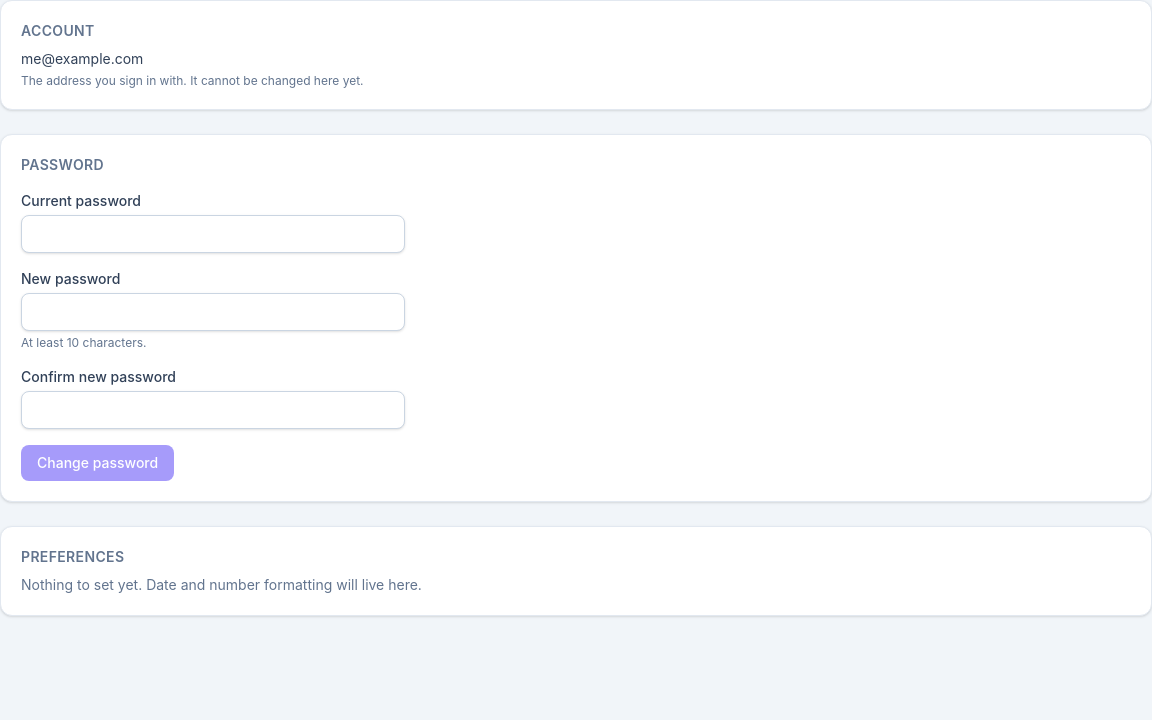
Scenario: change password form › shows the reason and empties the fields when the current password is wrong
Type "the old one" into the password field labelled "Current password".
click(213, 234); type("the old one")  # box x1=21 y1=215 x2=405 y2=253
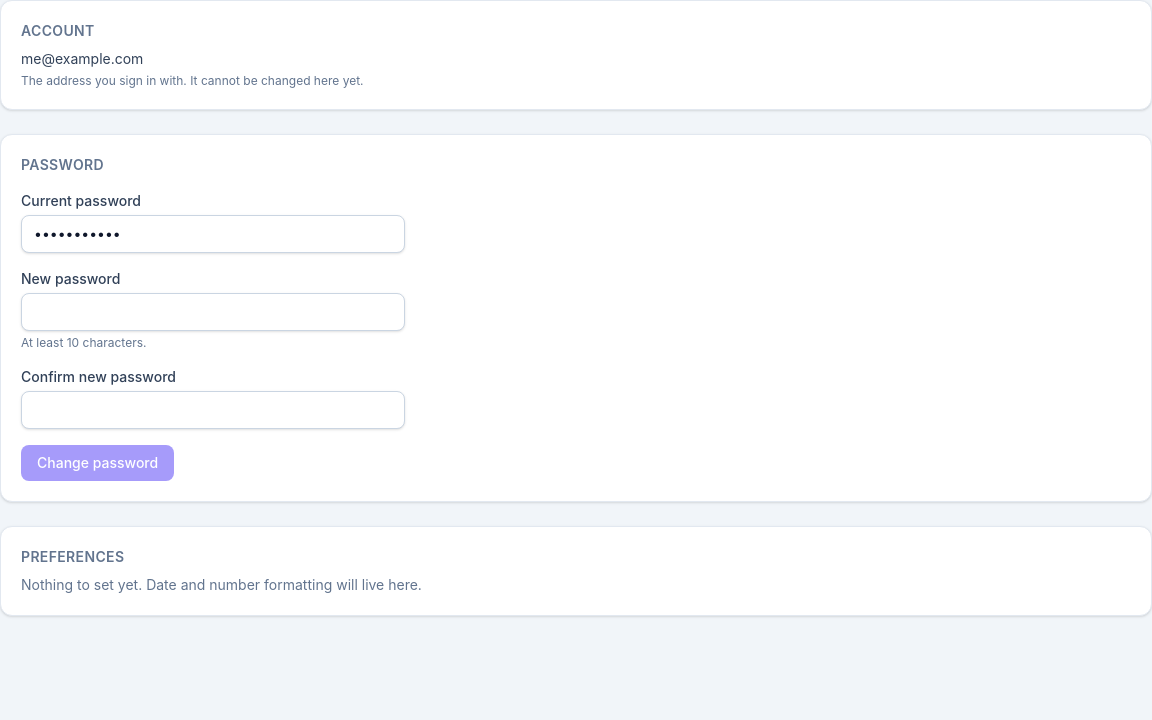
Type "a long enough new one" into the password field labelled "New password".
click(213, 312); type("a long enough new one")  # box x1=21 y1=293 x2=405 y2=331
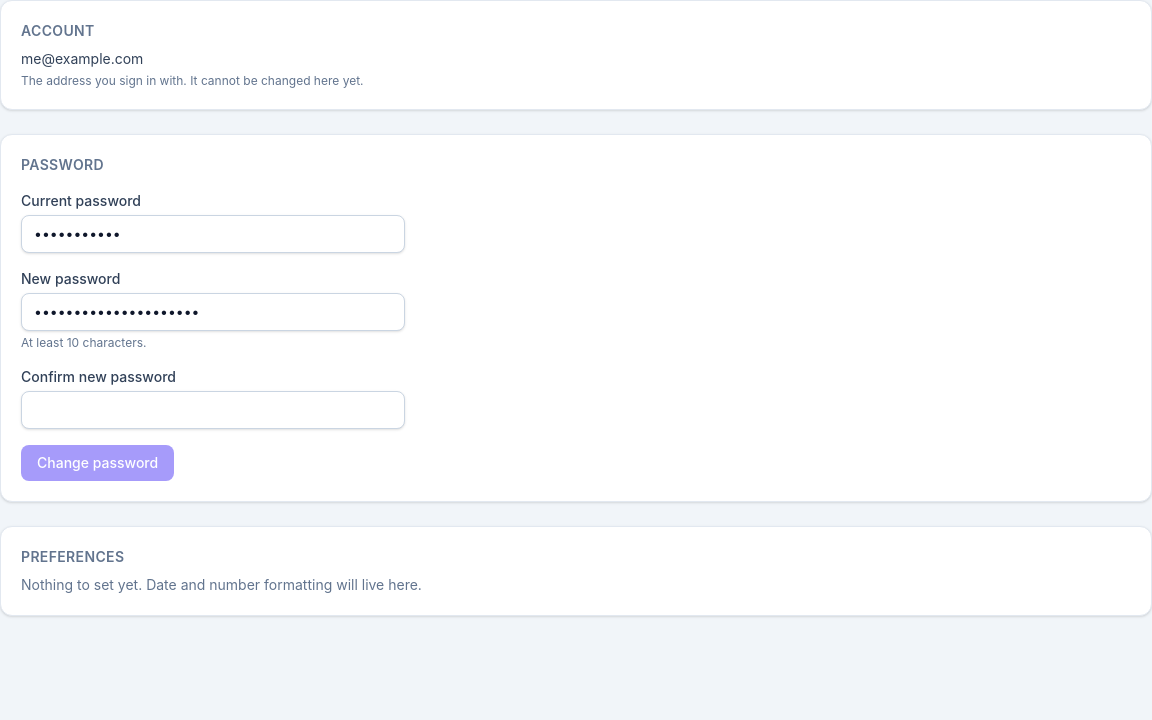
Type "a long enough new one" into the password field labelled "Confirm new password".
click(213, 410); type("a long enough new one")  # box x1=21 y1=391 x2=405 y2=429
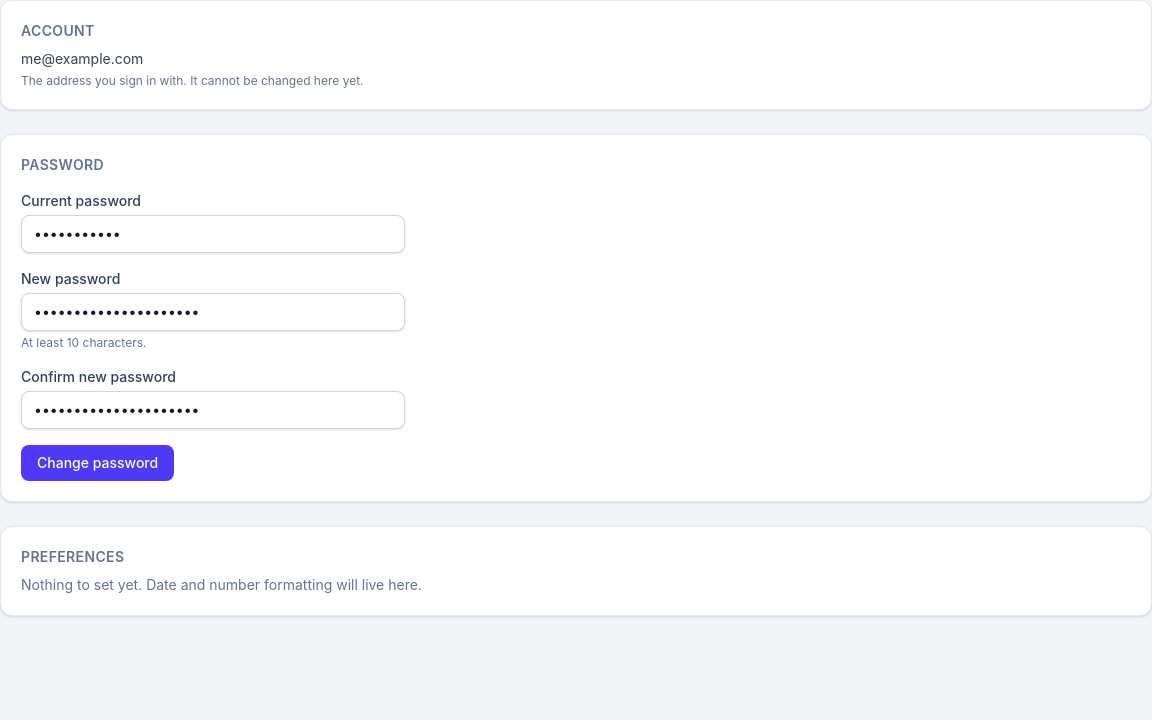
Click the button "Change password".
click(98, 463)  # box x1=21 y1=445 x2=174 y2=481
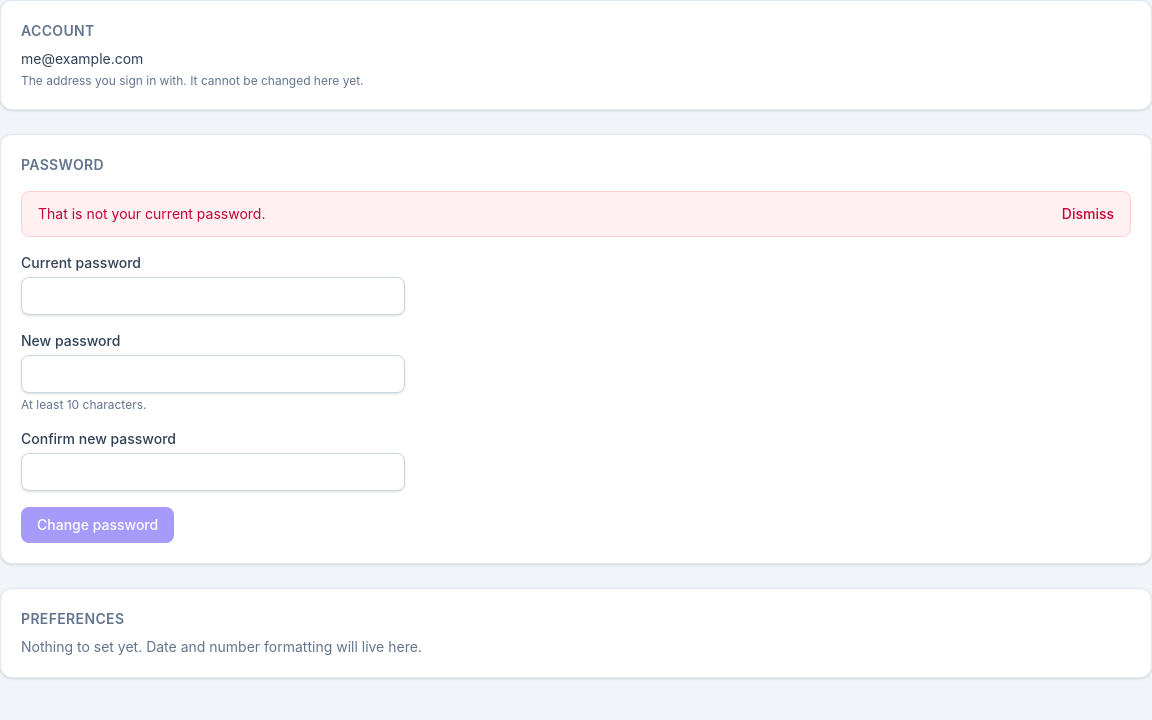
Now the message shows "That is not your current password.", box x1=38 y1=205 x2=265 y2=222
Now the password field labelled "Current password" is empty, box x1=21 y1=277 x2=405 y2=315
